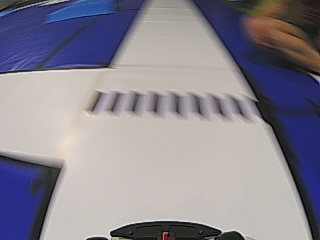CrossWalk: (87, 91, 247, 120)
